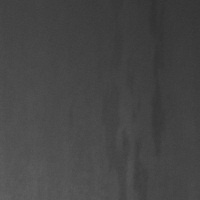inclusion: (102, 9, 141, 197), (145, 1, 173, 168)
